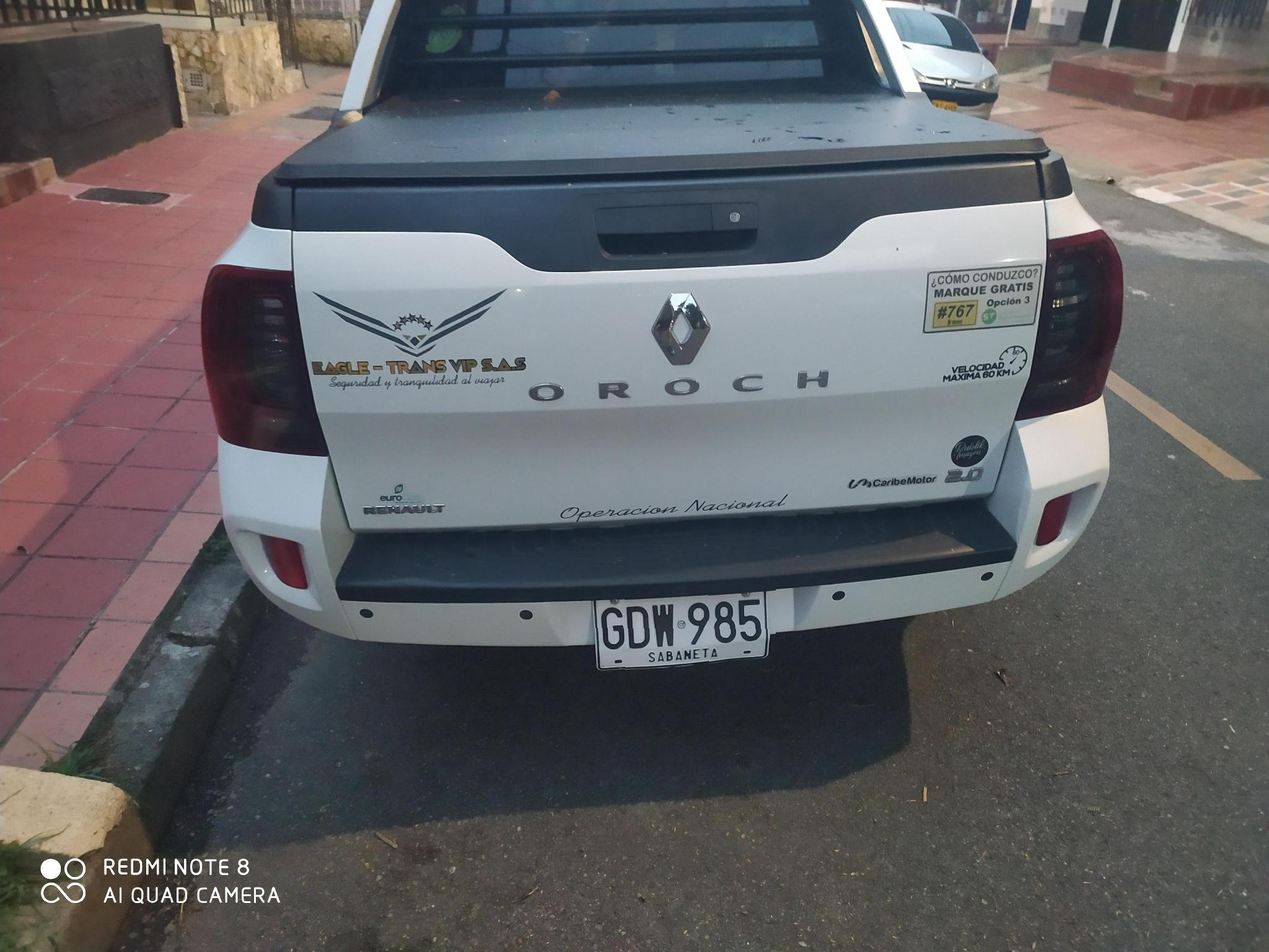placa: (582, 586, 776, 674)
